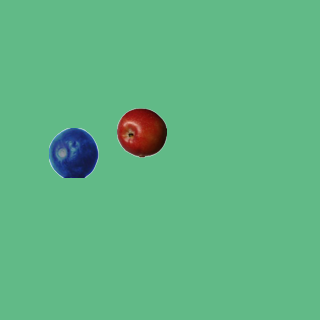Apple Braeburn: (116, 107, 166, 157)
Huckleberry: (48, 127, 98, 177)
